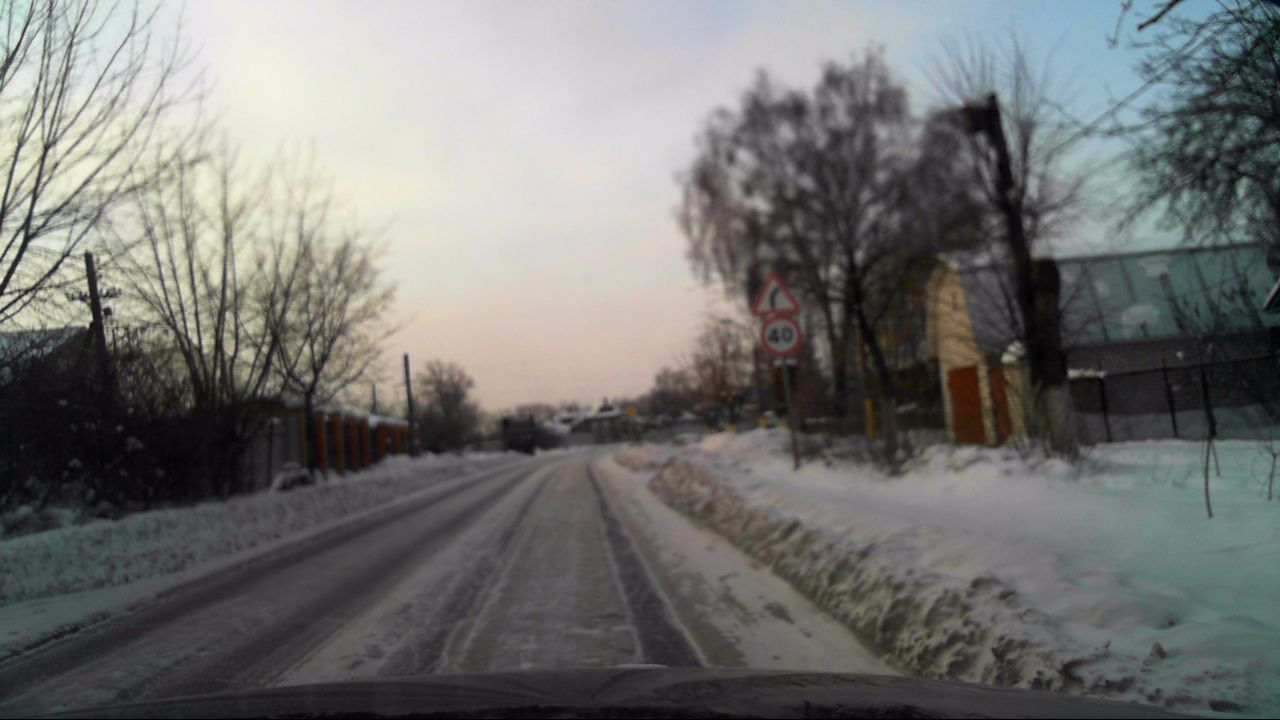speed_warning_40: (760, 316, 800, 355)
